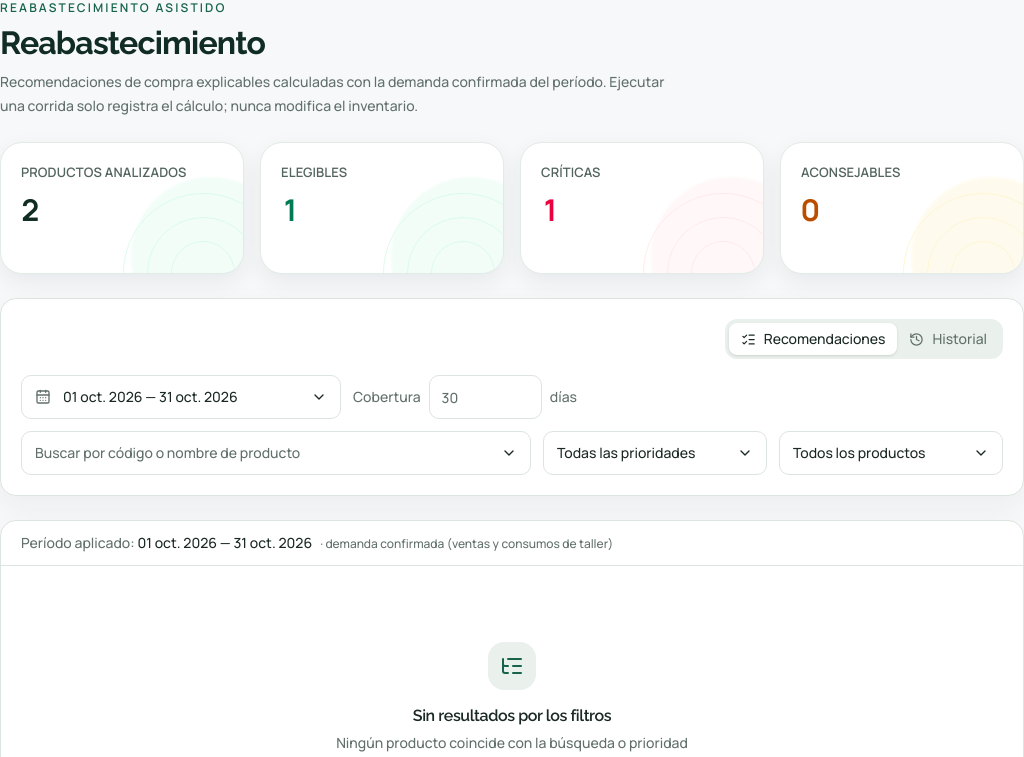
Test: Página de reabastecimiento › cambia a la pestaña de historial y muestra las corridas
Click the tab "Historial": (948, 339) [897,323,999,355]
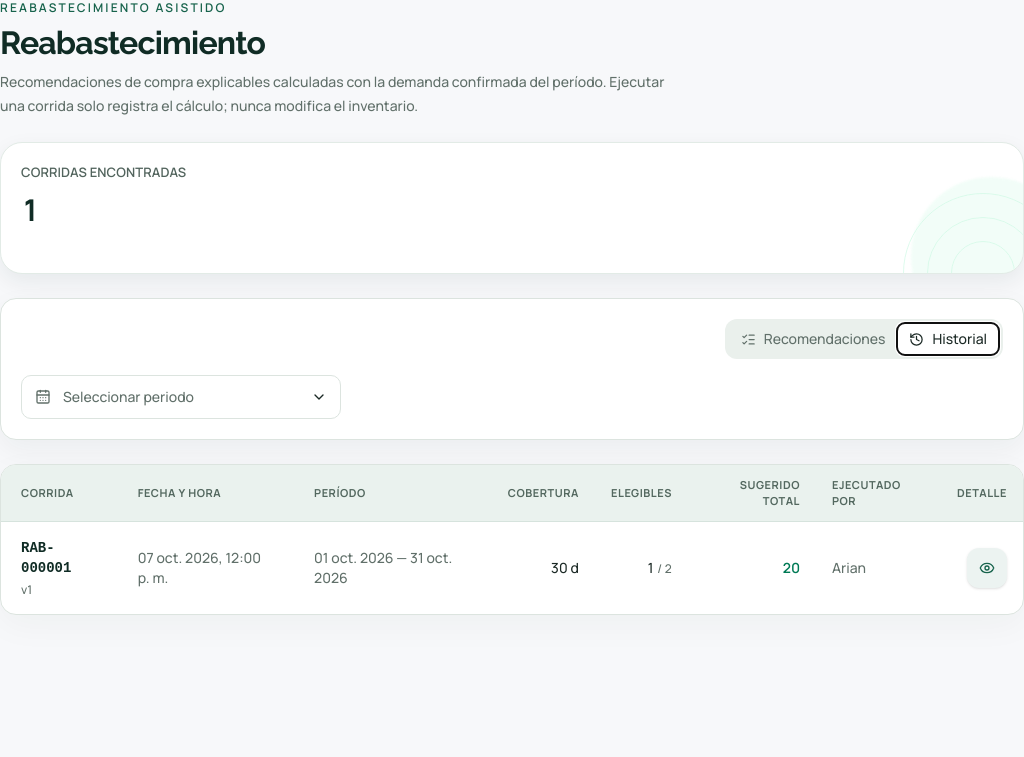
Expected: the text "RAB-000001" is shown, [21,540,71,576]
Expected: the button named "Ver detalle de corrida RAB-000001" is shown, [967,548,1007,588]
